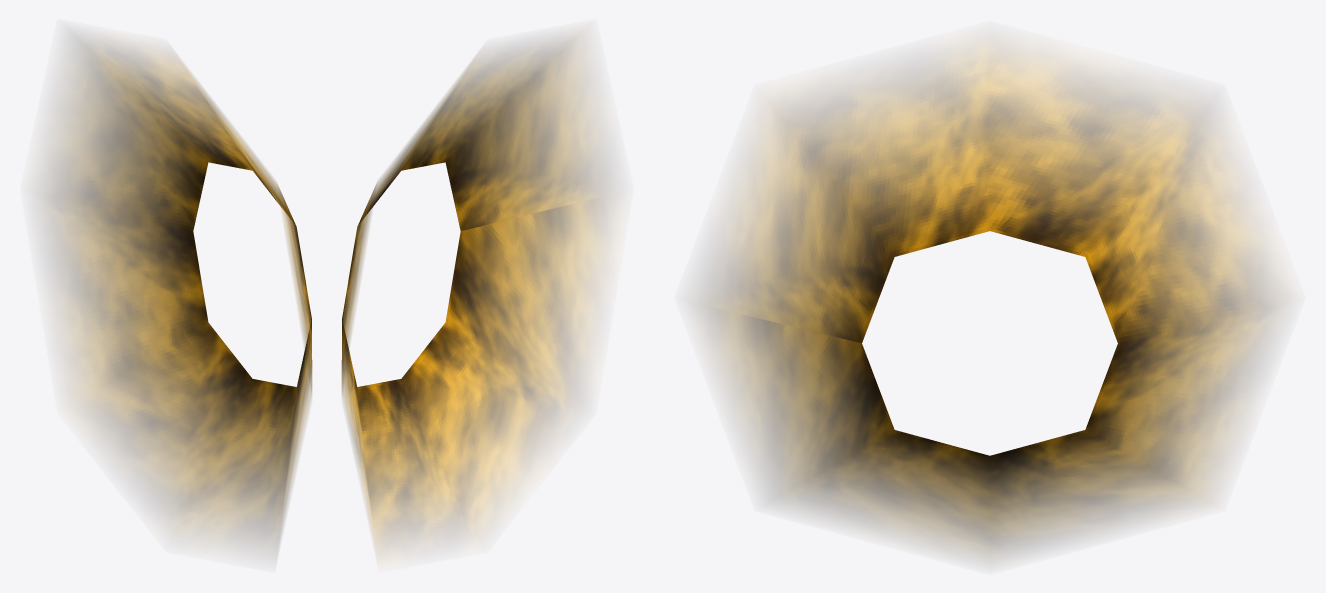
The model's file is shackled_sun_rays.glb.
3 renders of one model, left to right at view 1: azimuth 30°, elevation 25°; view 2: azimuth 150°, elevation 25°; view 3: azimuth 270°, elevation 25°, orthographic. The views are drawn at different scales.
Visible parts, largest first — view 1: Cube; view 2: Cube; view 3: Cube.
Part boxes in pixels (x1,y1,x2,y2): Cube: [41, 36, 312, 549]; Cube: [341, 36, 612, 549]; Cube: [697, 47, 1282, 559].
Size of the model in its own units: 1.47 by 8.26 by 8.52.
Materials: 1 (1 with a texture image).
